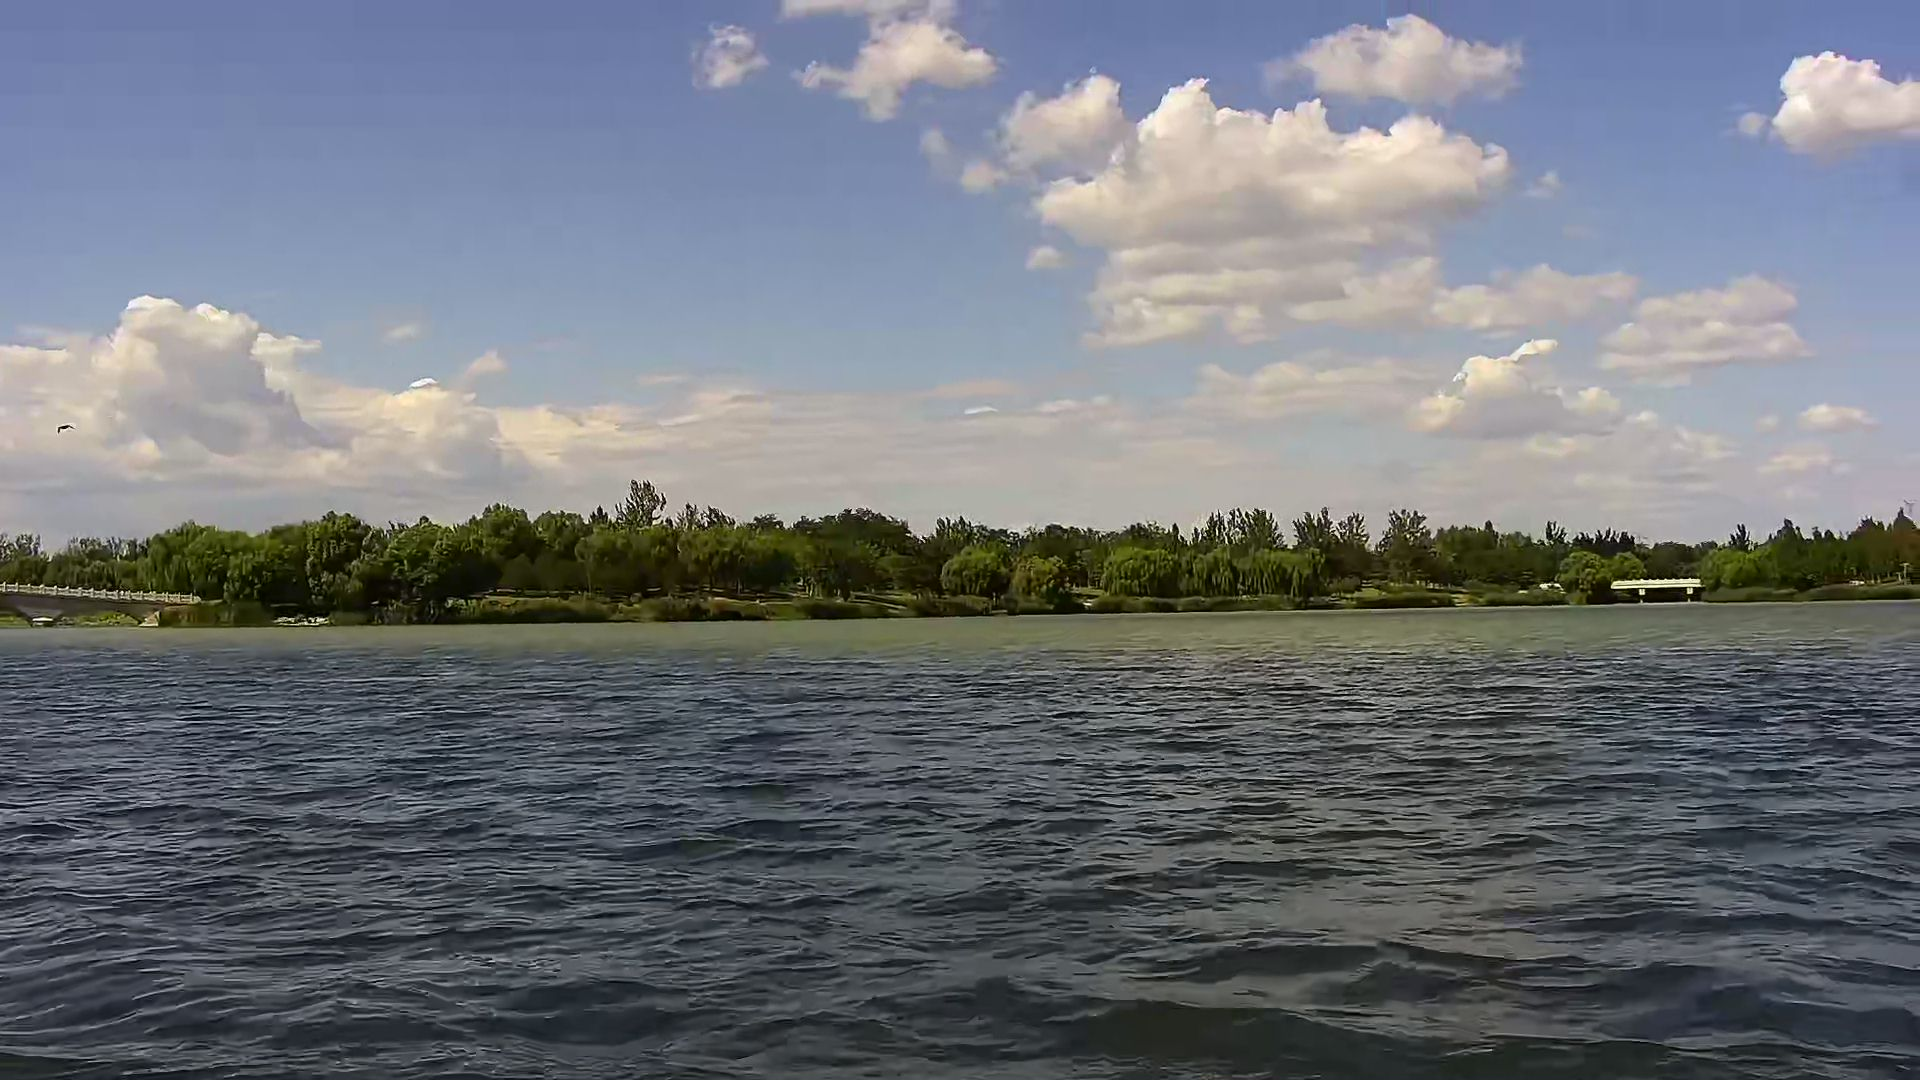bridge: (3, 568, 219, 626), (1611, 574, 1704, 612)
